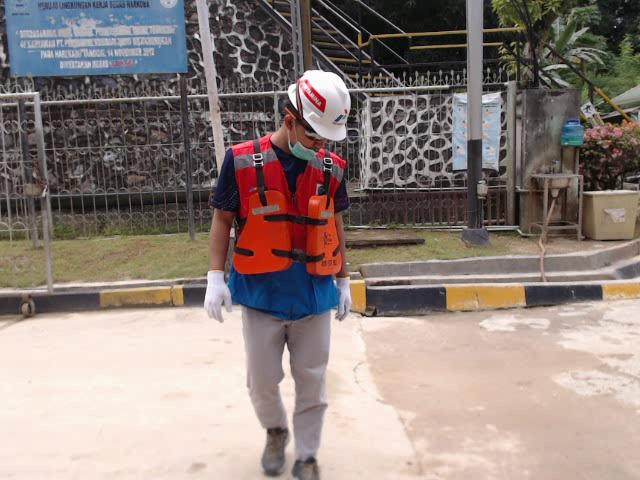glasses: (287, 109, 326, 144)
gloves: (202, 268, 233, 329), (333, 275, 354, 324)
helmet: (288, 69, 353, 142)
mask: (288, 140, 320, 162)
safety-shoes: (260, 423, 291, 479), (292, 457, 323, 480)
vest: (233, 189, 345, 277)
